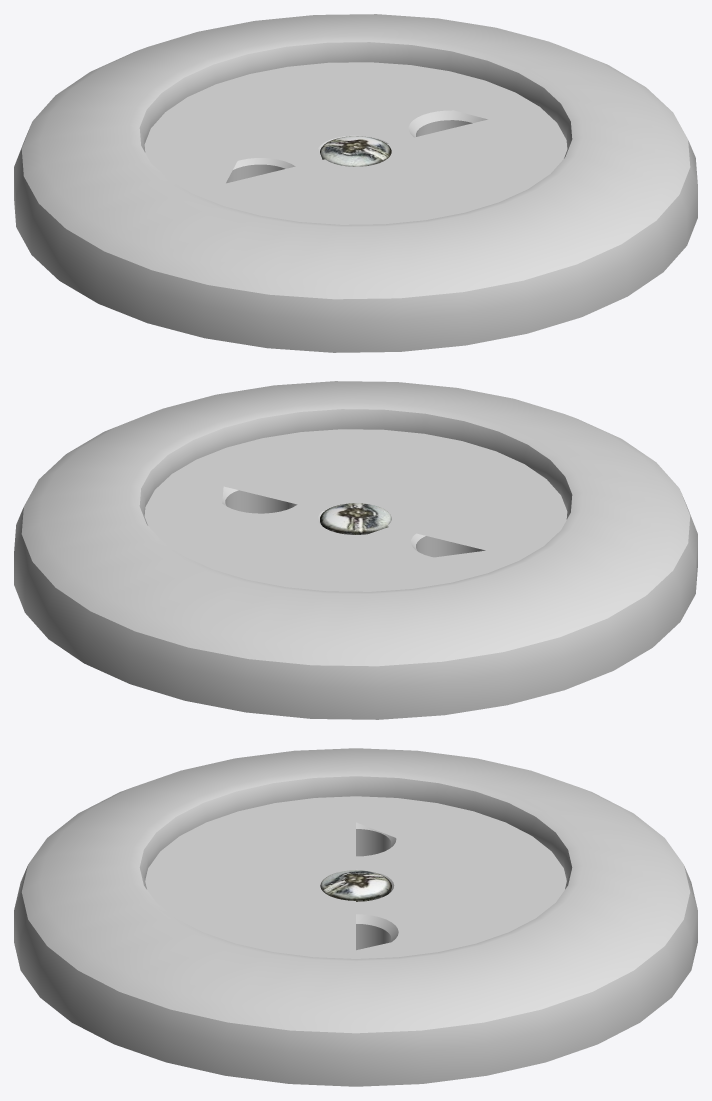
File: elect.fbx
3 views of the same model, one above another, from view 1: azimuth 30°, elevation 25°; view 2: azimuth 150°, elevation 25°; view 3: azimuth 270°, elevation 25° (orthographic).
Parts seen in each view (by area): view 1: Cylinder, Cylinder.001; view 2: Cylinder, Cylinder.001; view 3: Cylinder, Cylinder.001.
Part boxes in pixels (<box>): Cylinder: <box>14,14,697,352</box>; Cylinder.001: <box>320,136,391,166</box>; Cylinder: <box>14,381,697,719</box>; Cylinder.001: <box>320,503,391,534</box>; Cylinder: <box>14,748,697,1086</box>; Cylinder.001: <box>320,870,391,901</box>.
Size of the model in its own units: 200 by 24.76 by 200.
2 materials, 1 textured.
